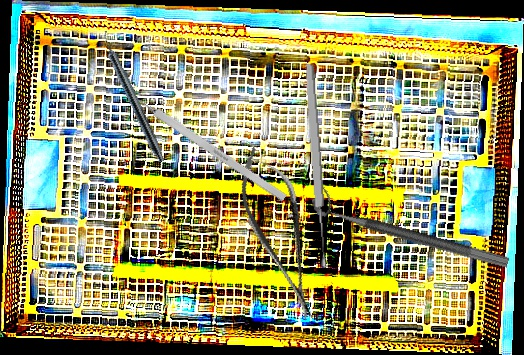Fixation Ring: (308, 184, 515, 270)
Handpiece: (97, 29, 169, 164)
Hook Surgical: (121, 86, 288, 203)
Micro Scissor: (227, 139, 332, 329)
Surgical Spoon: (303, 62, 330, 270)
